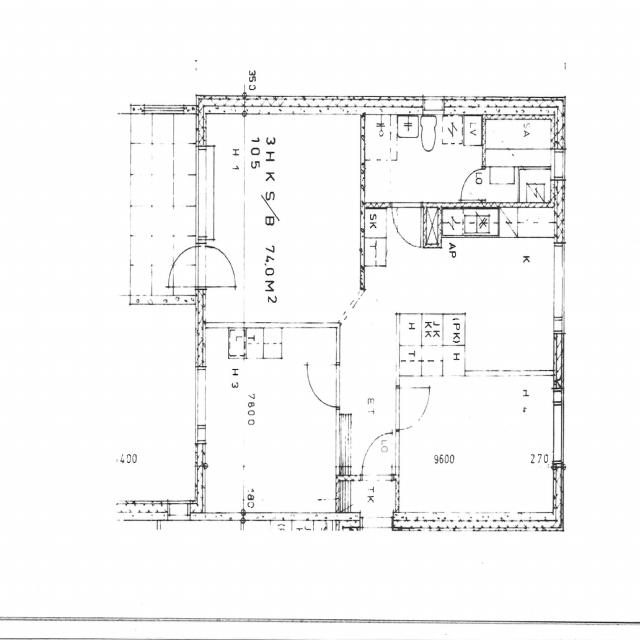door: (167, 247, 205, 286), (195, 247, 233, 286), (362, 433, 392, 481), (306, 364, 339, 406), (395, 388, 428, 430), (392, 202, 421, 249), (460, 169, 486, 200)
